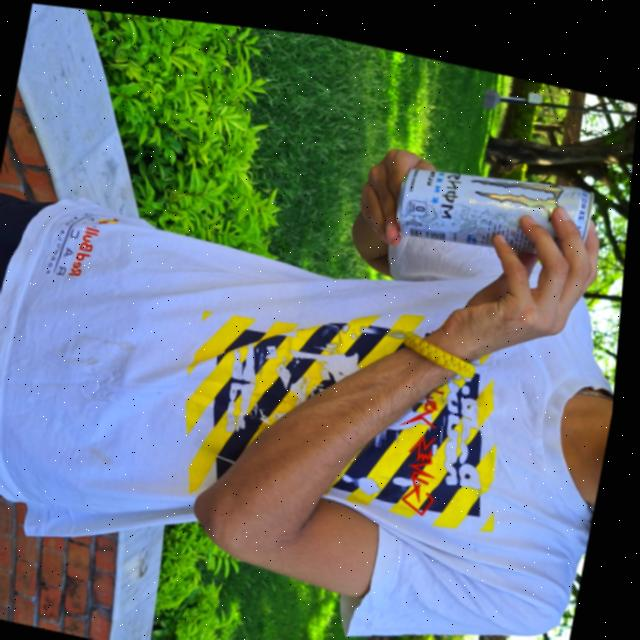White Monster: (392, 140, 603, 257)
